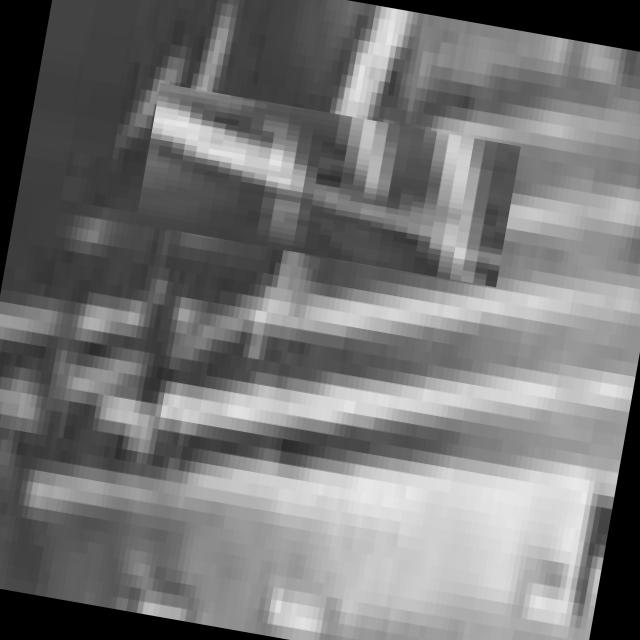stick: (180, 36, 475, 332)
